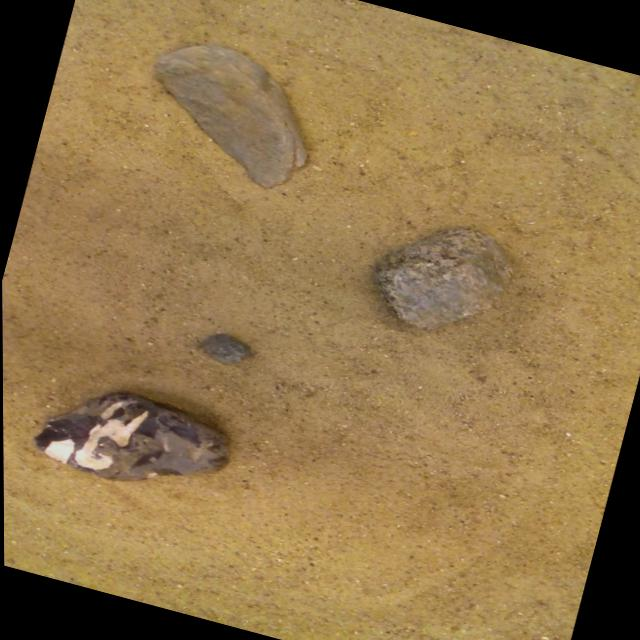rock: (155, 44, 308, 187), (35, 393, 228, 480), (377, 227, 512, 328), (200, 332, 250, 363)
